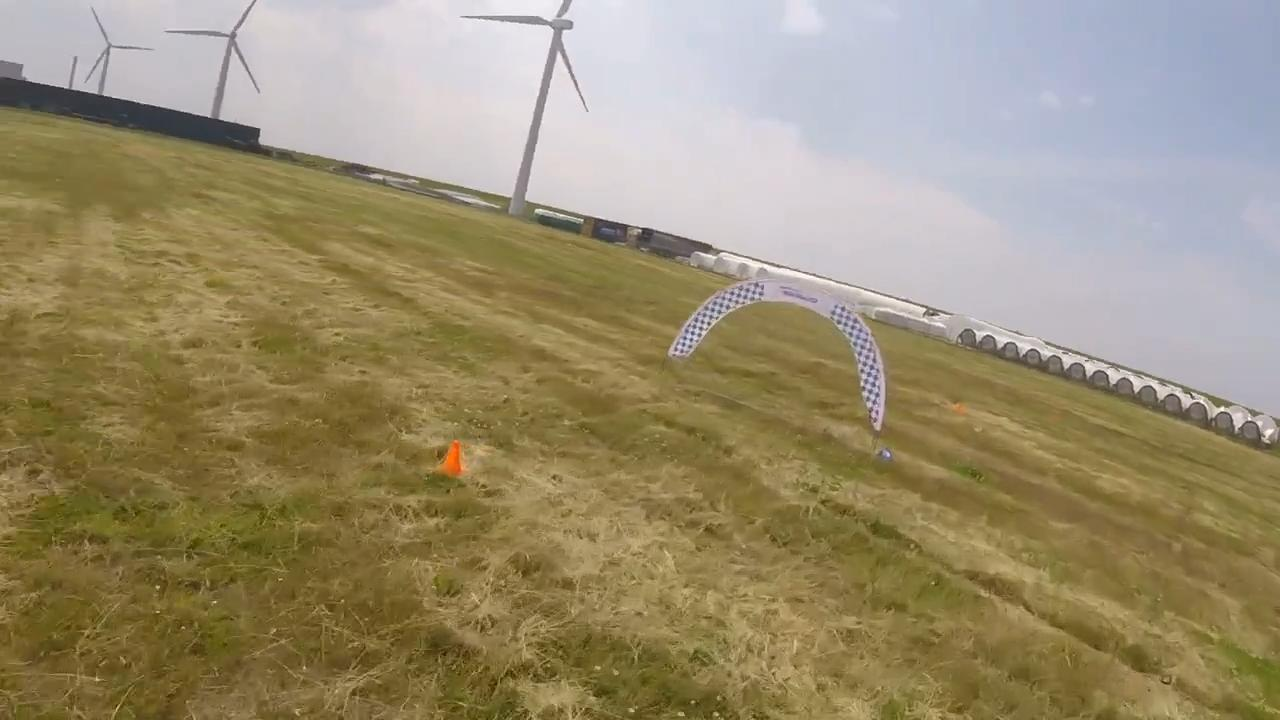gate: (668, 277, 883, 429)
